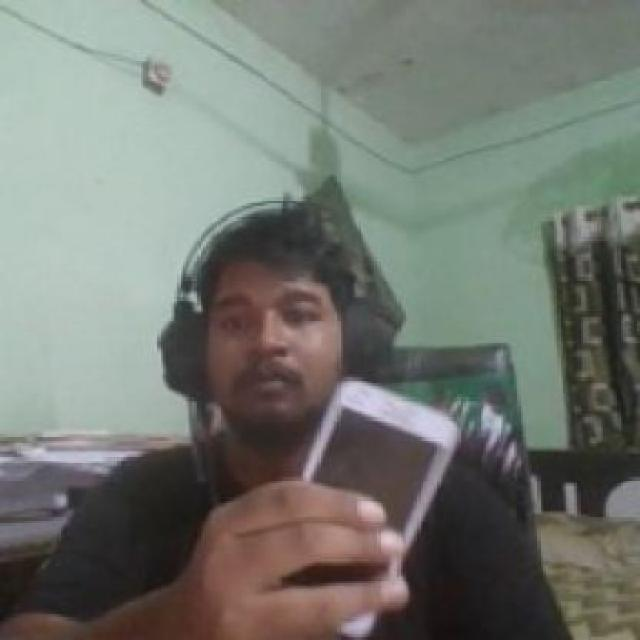Phone: (288, 375, 464, 640)
